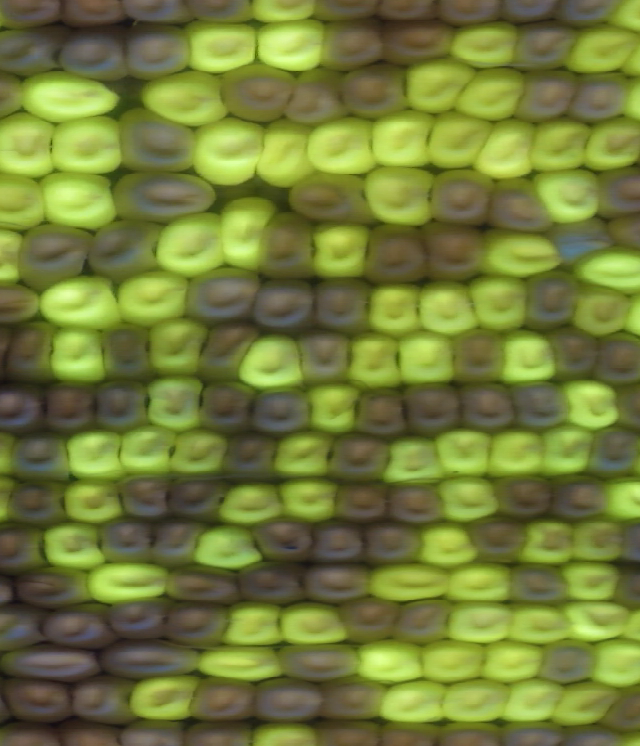fluorescent: (137, 63, 236, 134), (13, 63, 127, 124), (33, 165, 130, 235), (469, 222, 568, 285), (35, 270, 129, 336), (150, 205, 230, 281), (46, 112, 130, 184), (299, 111, 383, 182), (359, 162, 440, 234), (213, 192, 281, 276), (189, 114, 266, 187), (250, 112, 318, 193), (232, 327, 313, 395), (302, 214, 378, 285), (527, 162, 607, 229), (399, 53, 481, 118), (180, 14, 264, 76), (114, 265, 192, 331), (80, 554, 177, 607), (448, 63, 532, 124), (421, 106, 496, 174), (42, 319, 114, 389), (411, 274, 487, 340), (471, 112, 537, 187), (363, 559, 460, 610), (272, 596, 357, 654), (443, 15, 527, 73), (252, 14, 329, 77), (392, 323, 463, 391), (459, 270, 531, 337), (351, 632, 436, 688), (195, 638, 290, 688), (561, 20, 637, 82), (366, 106, 435, 174), (359, 277, 430, 343), (137, 371, 210, 435), (523, 114, 597, 177), (563, 278, 637, 341), (376, 431, 451, 493), (145, 314, 216, 379), (372, 673, 454, 729), (545, 676, 630, 730), (0, 107, 62, 181), (342, 327, 408, 396), (439, 595, 521, 650), (123, 669, 202, 726), (210, 474, 290, 530), (187, 520, 271, 573), (437, 674, 519, 728), (428, 470, 507, 525), (429, 423, 501, 483), (472, 635, 553, 688), (272, 472, 347, 529), (216, 595, 292, 651), (533, 419, 599, 483), (439, 558, 521, 609), (61, 426, 131, 485), (493, 674, 569, 728), (115, 420, 181, 482), (495, 325, 561, 387), (55, 473, 131, 526), (502, 597, 578, 650), (559, 374, 627, 433), (482, 425, 550, 484), (166, 424, 235, 482), (265, 428, 337, 483), (36, 518, 110, 571), (302, 378, 366, 439), (513, 515, 579, 574), (412, 518, 485, 571), (553, 557, 630, 607), (417, 632, 491, 684), (580, 114, 640, 177), (564, 595, 638, 646), (569, 242, 640, 295), (0, 167, 53, 236), (562, 512, 626, 567), (584, 633, 640, 692), (594, 470, 640, 525), (0, 220, 32, 291), (245, 1, 322, 29), (604, 1, 640, 34)
nonfluorescent: (105, 166, 224, 227), (277, 165, 381, 233), (110, 103, 203, 179), (173, 261, 269, 332), (12, 218, 98, 296), (80, 212, 171, 285), (249, 206, 327, 288), (216, 58, 303, 127), (95, 632, 208, 685), (358, 216, 435, 290), (0, 636, 113, 685), (423, 163, 502, 232), (53, 21, 136, 86), (413, 220, 493, 287), (270, 637, 373, 689), (330, 61, 416, 123), (247, 271, 322, 342), (118, 17, 201, 81), (394, 376, 473, 442), (11, 559, 103, 614), (181, 669, 262, 731), (154, 593, 239, 652), (375, 15, 461, 73), (293, 556, 382, 612), (245, 671, 334, 727), (194, 317, 264, 388), (0, 21, 81, 82), (483, 173, 559, 238), (35, 596, 120, 654), (277, 64, 355, 127), (505, 15, 589, 73), (510, 63, 587, 126), (0, 314, 63, 391), (65, 668, 142, 731), (96, 319, 165, 389), (314, 12, 389, 76), (0, 670, 80, 730), (84, 374, 159, 437), (516, 268, 587, 334), (537, 320, 608, 386), (191, 375, 262, 441), (309, 671, 397, 724), (483, 469, 563, 527), (163, 561, 252, 613), (560, 68, 638, 127), (331, 591, 409, 650), (448, 375, 521, 438), (290, 322, 358, 389), (36, 374, 102, 443), (502, 377, 579, 436), (233, 555, 314, 611), (323, 427, 397, 488), (307, 272, 375, 338), (7, 426, 81, 486), (245, 512, 320, 571), (543, 217, 622, 273), (91, 510, 163, 571), (159, 469, 232, 529), (543, 469, 621, 525), (528, 635, 606, 691), (444, 326, 513, 389), (241, 382, 317, 438), (389, 592, 460, 651), (499, 556, 578, 609), (353, 516, 429, 571), (216, 424, 284, 485), (109, 467, 179, 526), (462, 511, 533, 569), (347, 385, 416, 443), (380, 478, 455, 531), (577, 422, 640, 484), (142, 513, 208, 572), (303, 516, 373, 570), (105, 597, 182, 646), (0, 475, 72, 527), (0, 516, 55, 580), (586, 328, 640, 393), (0, 376, 53, 441), (328, 476, 395, 527), (0, 600, 51, 659), (173, 714, 263, 746), (591, 164, 640, 221), (0, 277, 49, 332), (596, 680, 640, 738), (111, 715, 189, 746), (0, 1, 69, 36), (311, 716, 390, 746), (50, 1, 130, 30), (0, 57, 31, 129), (114, 1, 196, 28), (604, 205, 640, 263), (606, 556, 640, 617), (371, 718, 445, 746)
